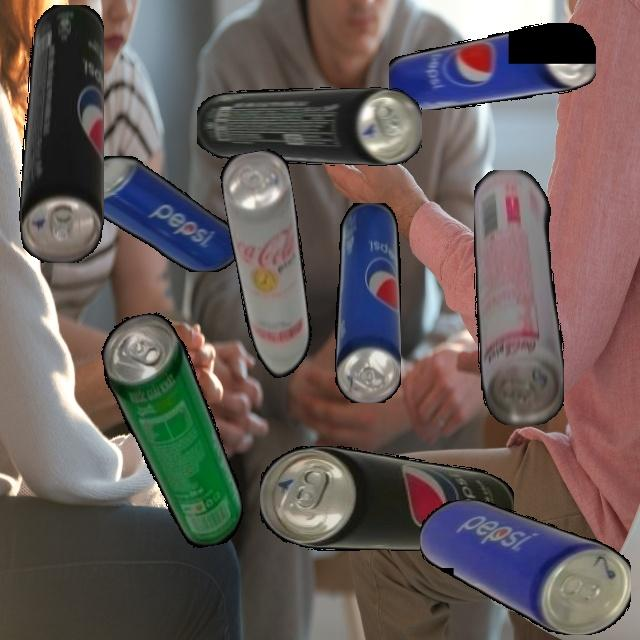debris: (96, 304, 248, 558), (419, 500, 631, 635), (260, 445, 514, 551), (217, 147, 324, 381), (473, 169, 564, 425), (18, 4, 104, 263), (76, 156, 241, 272), (388, 23, 596, 110), (196, 87, 422, 166), (334, 202, 401, 403)
